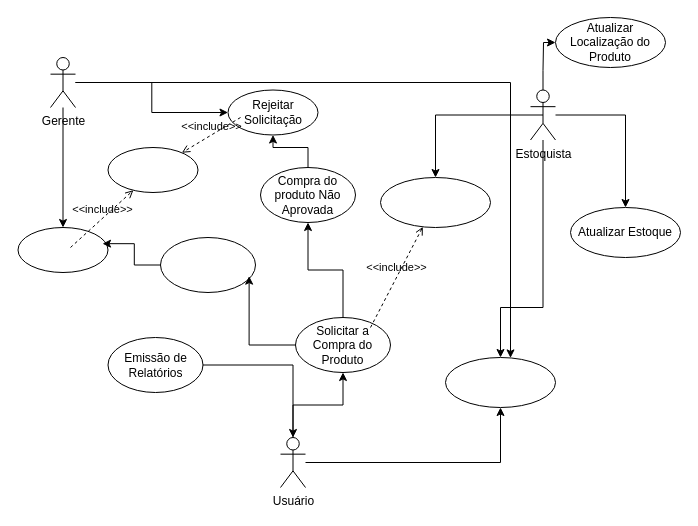
Some shapes in this 698 by 526 pixel diagram are drawn without their labels. The shapes that lost their labels are listed below. From the top down, each one's centre as x and y in pixels, then its label:
At (x=152, y=169): "Visualizar solicitações".
At (x=435, y=202): "Registrar Entrada dos Produtos".
At (x=62, y=249): "Aprovar Solicitação".
At (x=208, y=264): "Compra do produto Aprovada".
At (x=500, y=382): "Listar os Produtos".
